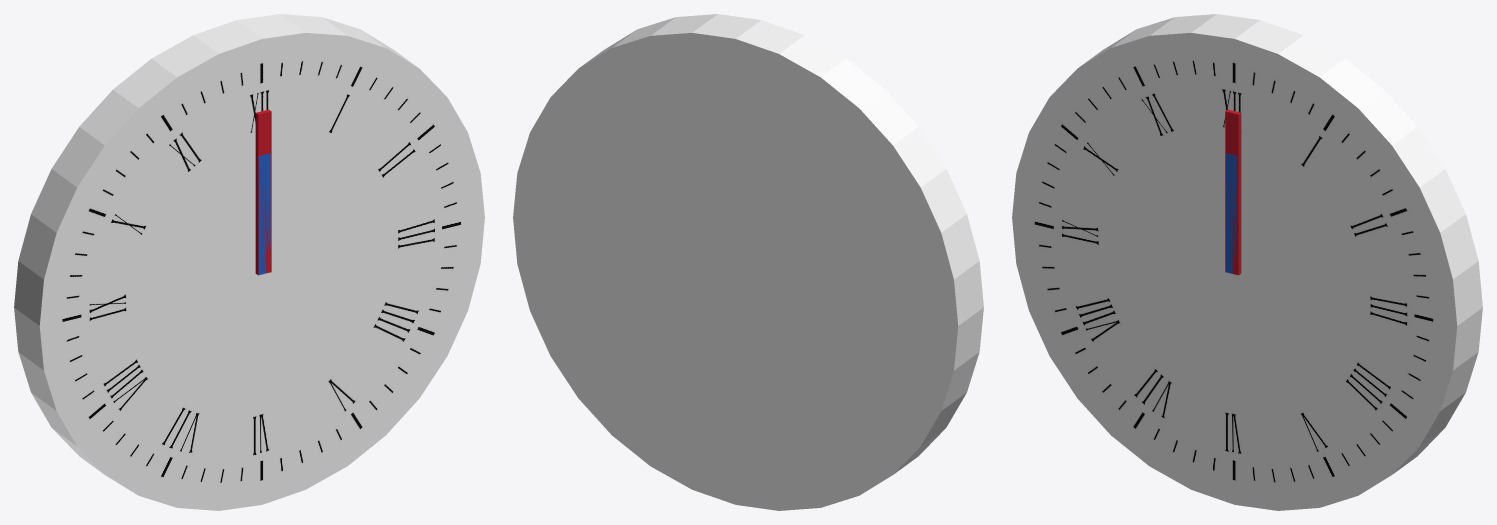
File: watch.fbx
3 renders of one model, left to right at view 1: azimuth 30°, elevation 25°; view 2: azimuth 150°, elevation 25°; view 3: azimuth 330°, elevation 25°, orthographic.
Parts seen in each view (by area): view 1: Cylinder, minutes, hours; view 2: Cylinder; view 3: Cylinder, minutes, hours.
Part boxes in pixels (bbox=[...]): Cylinder: bbox=[14, 14, 484, 510]; minutes: bbox=[255, 109, 271, 275]; hours: bbox=[259, 153, 270, 274]; Cylinder: bbox=[513, 14, 983, 510]; Cylinder: bbox=[1012, 14, 1482, 510]; minutes: bbox=[1225, 109, 1241, 275]; hours: bbox=[1226, 153, 1237, 273].
Size of the model in its own units: 200 by 200 by 22.
